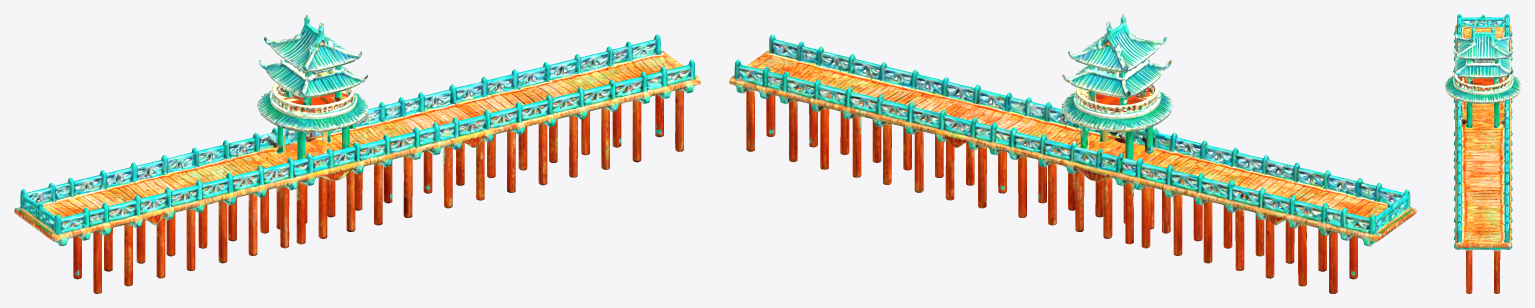
The model's file is ql_longbridge.glb.
3 renders of one model, left to right at view 1: azimuth 30°, elevation 25°; view 2: azimuth 150°, elevation 25°; view 3: azimuth 270°, elevation 25°, orthographic. The views are drawn at different scales.
Visible parts, largest first — view 1: ql_longbridge; view 2: ql_longbridge; view 3: ql_longbridge.
Boxes of the visible parts, <box> form: ql_longbridge: <box>14,14,700,293</box>; ql_longbridge: <box>729,14,1416,293</box>; ql_longbridge: <box>1445,14,1520,293</box>.
Bounding box in the file's own units: 40 × 12.46 × 5.83.
1 material, 1 textured.
